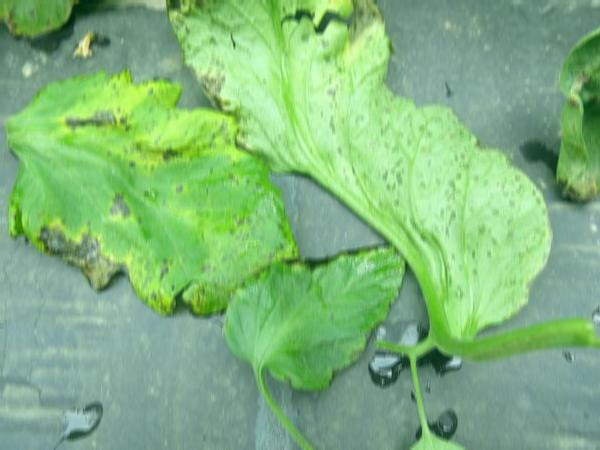Tomato leaf bacterial spot: (4, 82, 309, 314)
